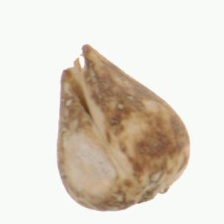L1: (60, 42, 95, 109), (123, 172, 177, 211)
L2: (56, 44, 191, 212)
